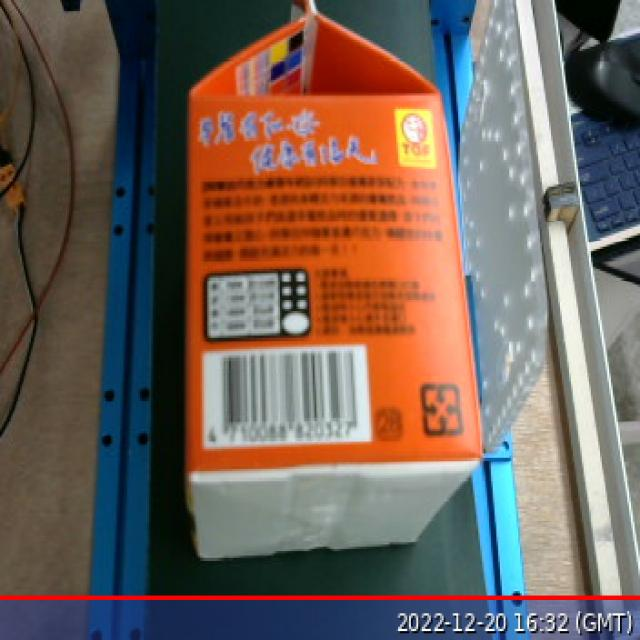non_white_jug: (165, 0, 495, 575)
